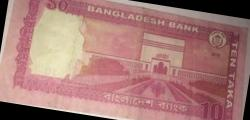10 taka: (14, 0, 242, 119)
